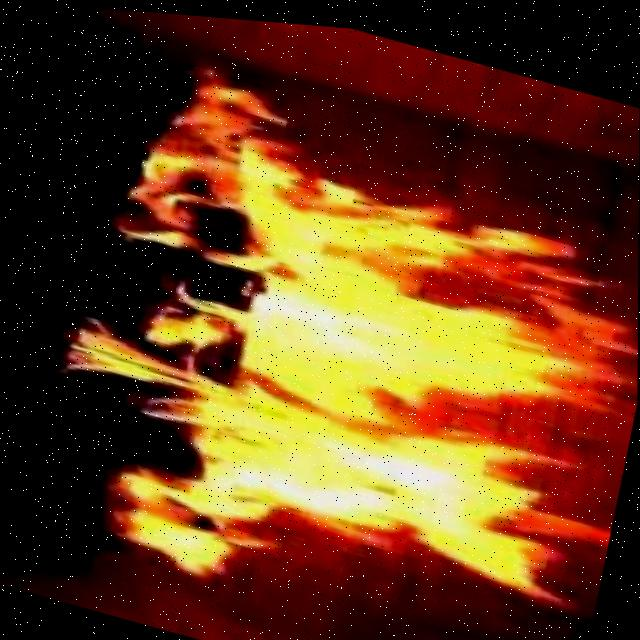Fire: (128, 128, 631, 632)
